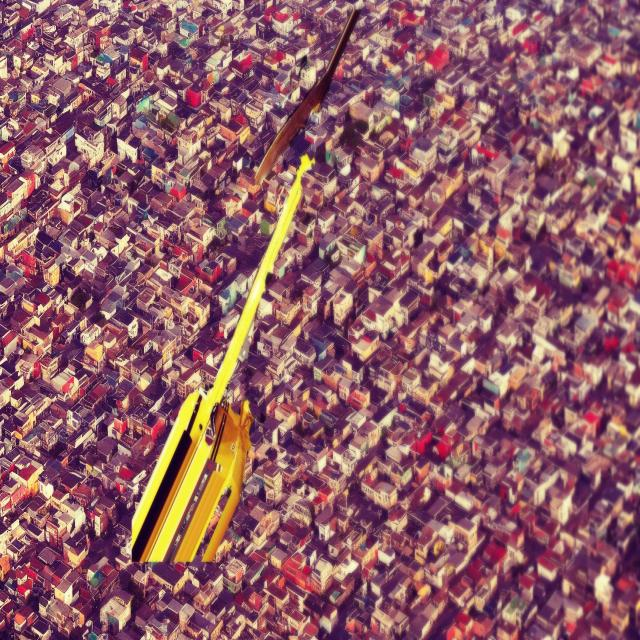airplane: (130, 151, 316, 567), (252, 6, 362, 187)
